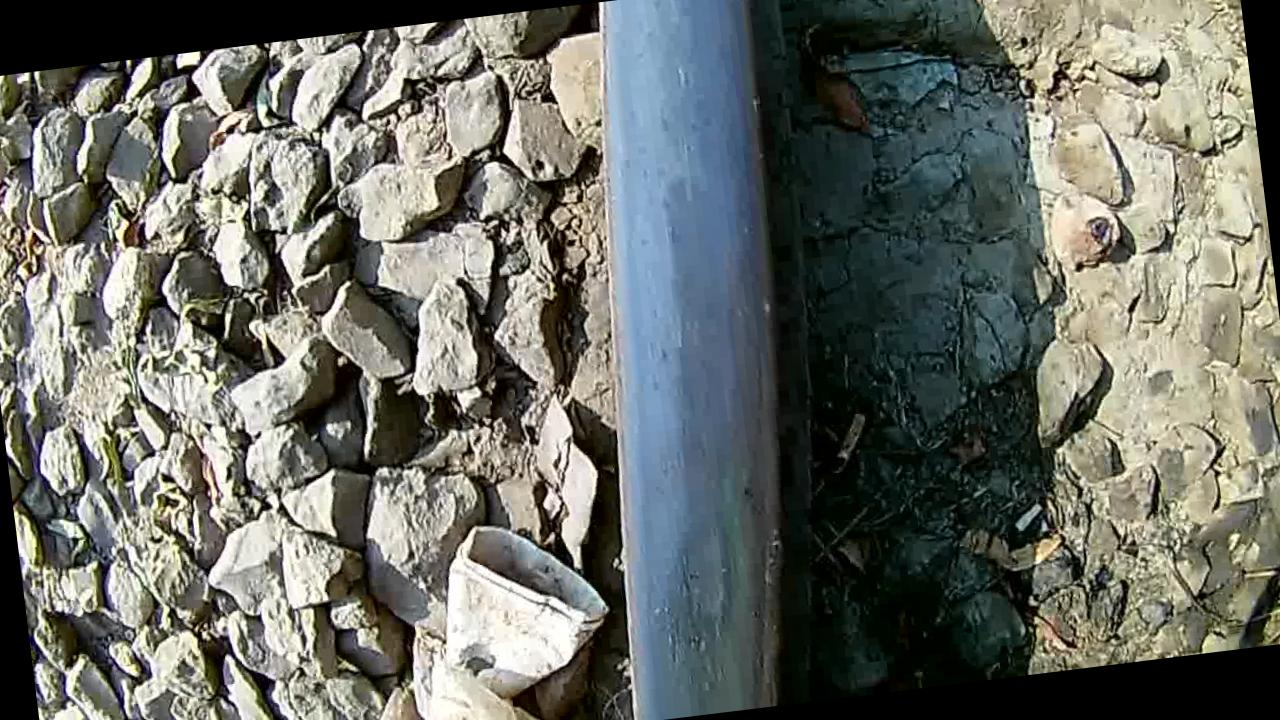bolt_missing: (577, 150, 842, 720)
